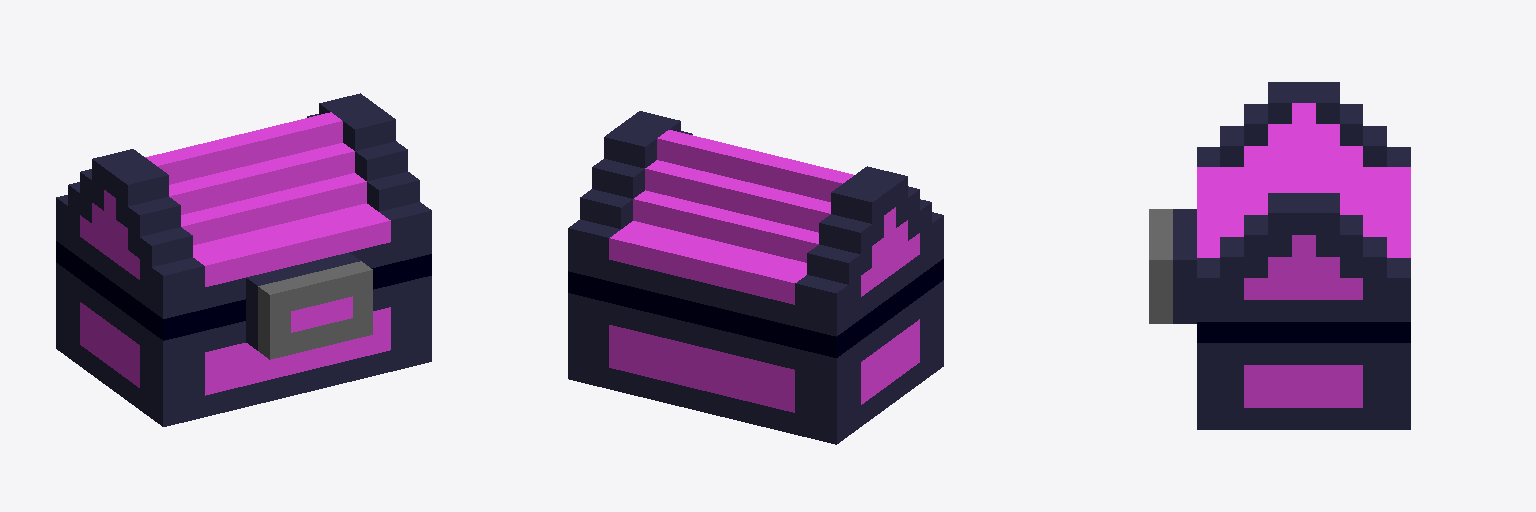
The picture shows the model from 3 angles: view 1: azimuth 30°, elevation 25°; view 2: azimuth 150°, elevation 25°; view 3: azimuth 270°, elevation 25°; orthographic projection.
Visible parts, largest first — view 1: cofre; view 2: cofre; view 3: cofre.
Boxes of the visible parts, <box> form: cofre: <box>56,93,431,426</box>; cofre: <box>568,111,943,444</box>; cofre: <box>1149,82,1410,429</box>.
Bounding box in the file's own units: 1.3 × 1 × 1.1.
1 materials, 1 textured.